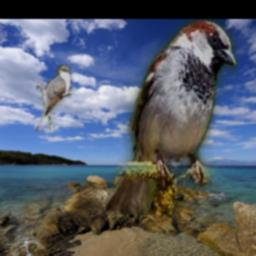Cuckoo: (36, 66, 72, 132)
Sparrow: (105, 20, 237, 216)
